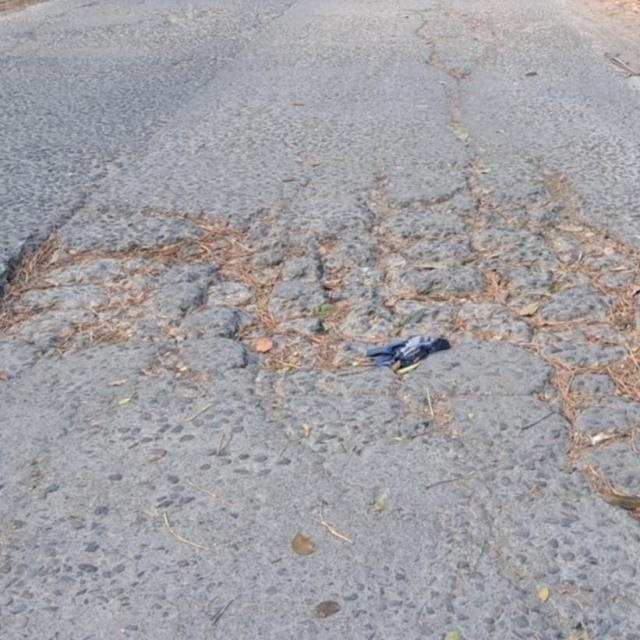pothole: (2, 80, 640, 440)
